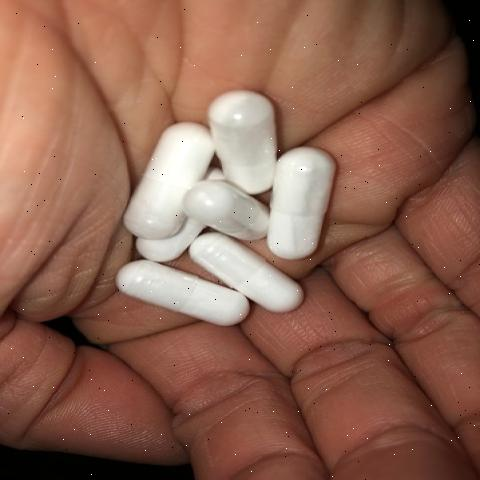Pill: (116, 108, 214, 248), (260, 141, 367, 260), (108, 260, 249, 342), (204, 81, 288, 192)
